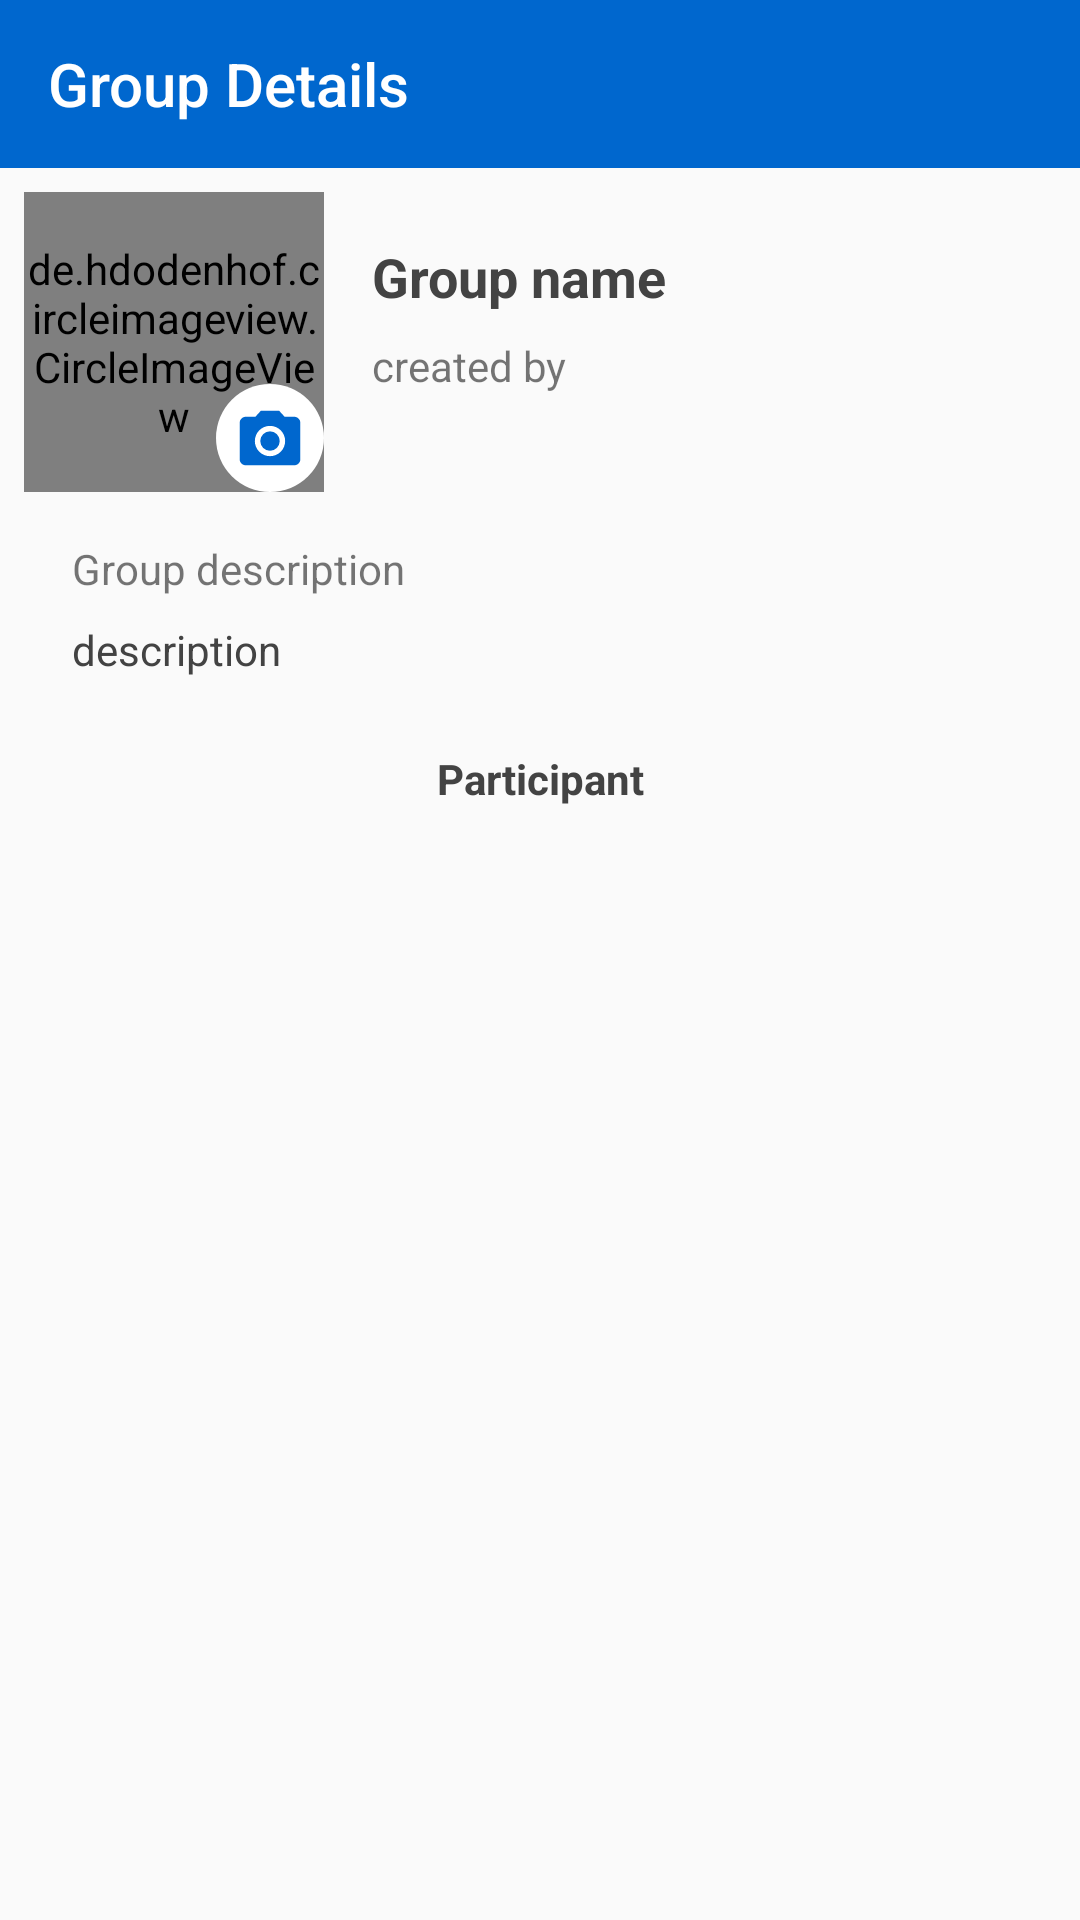

Where to tap for icons on this 1080px x 1920px app screen, as point (x, y):
edit profile: point (270, 438)
